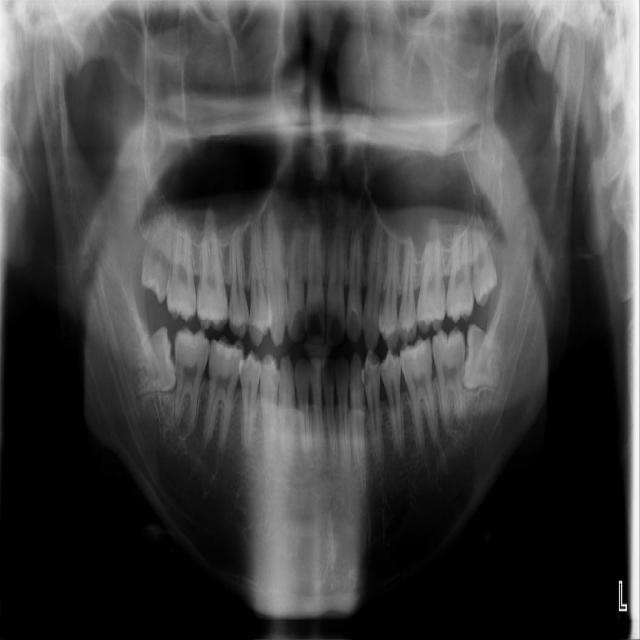3M ESPE Implant: (138, 194, 180, 305)
52: (201, 333, 248, 387)
73: (593, 570, 600, 574)
BioHorizons Implant: (445, 216, 474, 324)
BioLife Implant: (470, 212, 498, 307)
Biomet 3i Implant: (459, 323, 510, 393)
Blue Sky Bio Implant: (431, 326, 465, 430)
Caries: (166, 217, 196, 322)
Implant: (171, 325, 211, 431)
Keystone Dental Implant: (126, 325, 182, 397)
